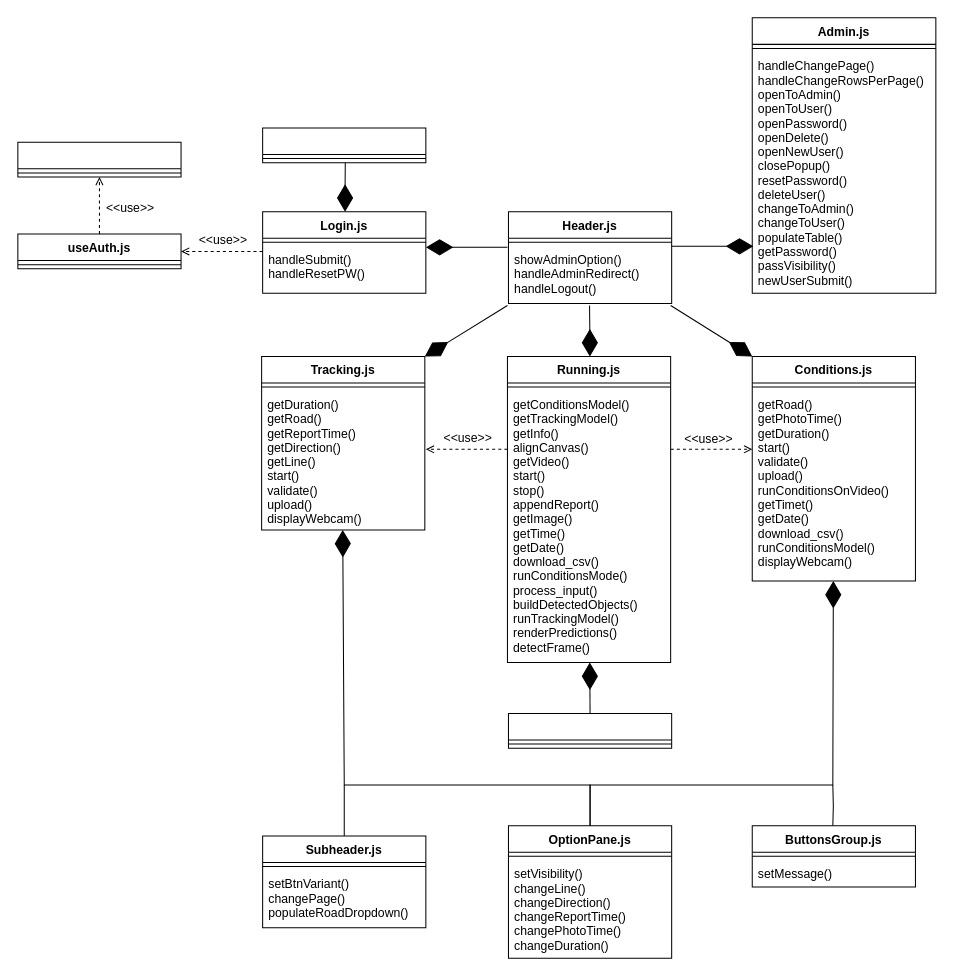
Some shapes in this 954 by 979 pixel diagram are drawn without their labels. The centre of each missing label's shape, as x and y in pixels:
AuthProvider.js: the point at 99,159
ResetPW.js: the point at 344,145
Timer.js: the point at 589,730
